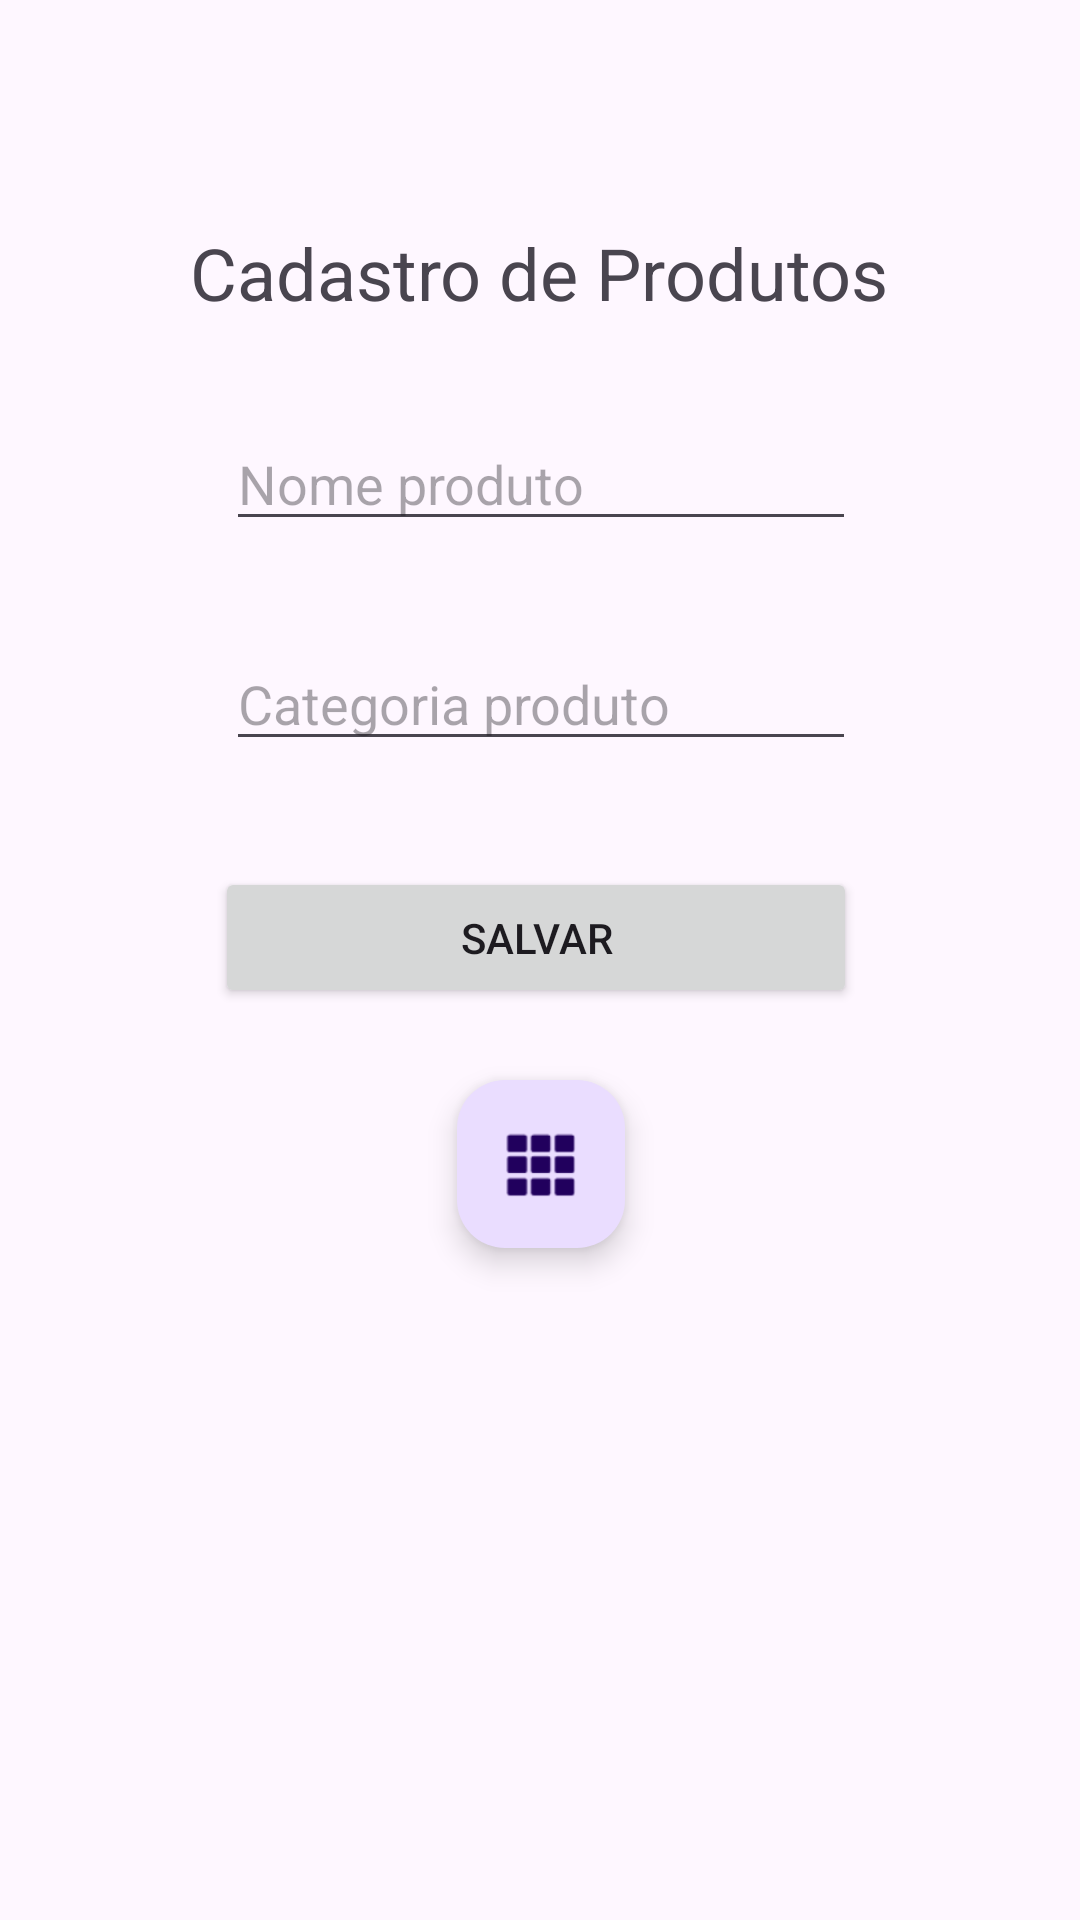

Icon bounding boxes for this 1080x1920 phone screenshot, format (x1, y1, x2, y2):
dialer: (457, 1080, 625, 1248)
